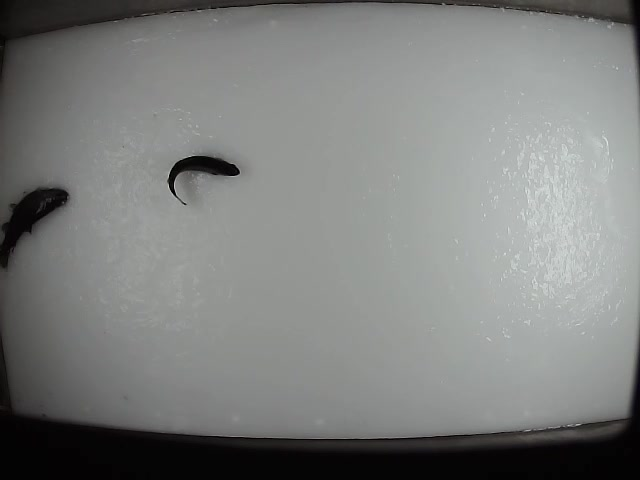Fish: (1, 187, 68, 268), (168, 156, 240, 205)
